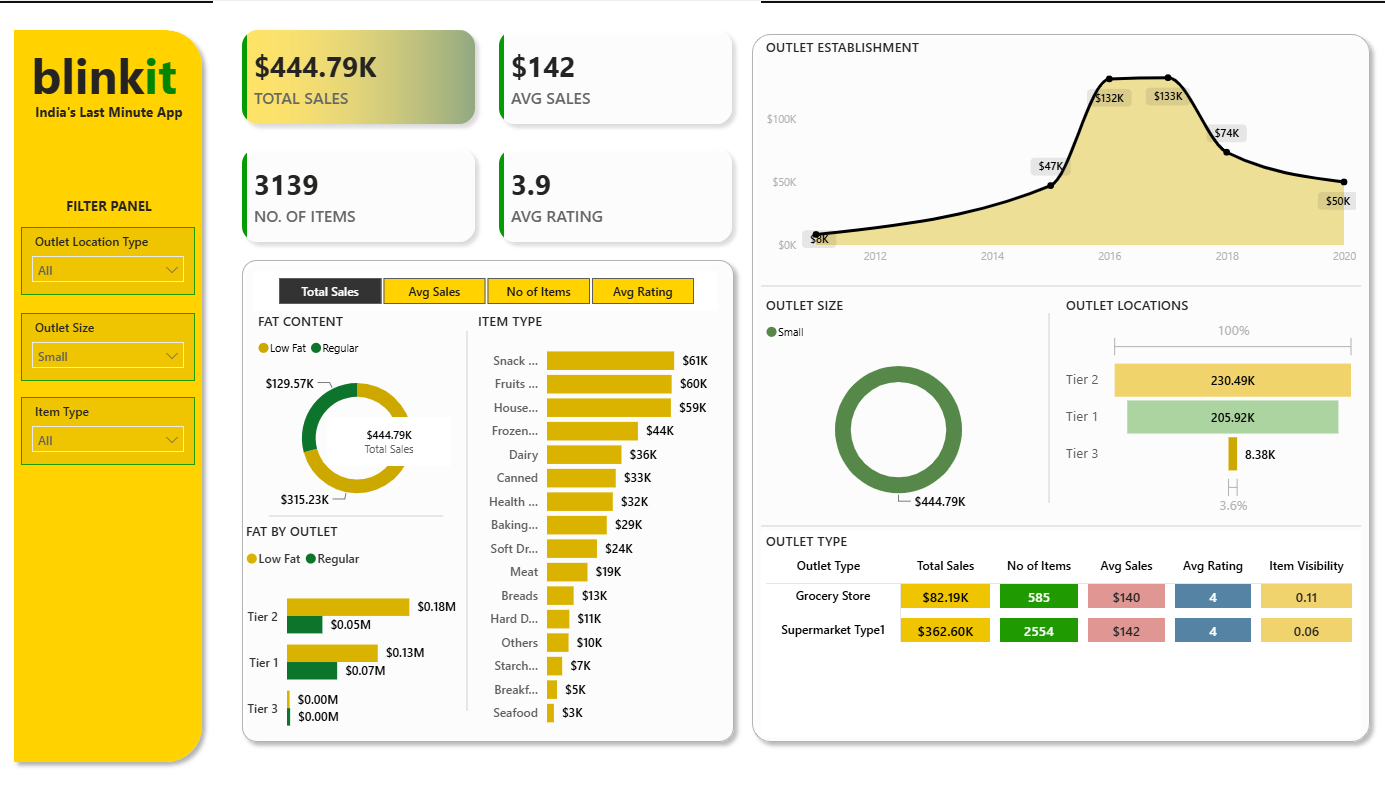

The dashboard page shown, as its layout file describes it:
{"tool":"powerbi","page":{"name":"Page 1","canvas":[1400,800],"ordinal":0},"visuals":[{"type":"shape","box":[10,20,206,750],"z":0},{"type":"textbox","box":[18,36,182,76],"z":1000},{"type":"textbox","box":[28,96,172,30],"z":2000},{"type":"cardVisual","fields":{"Data":["BlinkIT Grocery Data.Total Sales","BlinkIT Grocery Data.Avg Sales","BlinkIT Grocery Data.No of Items","BlinkIT Grocery Data.Avg Rating"]},"box":[218,0,548,270],"z":3000},{"type":"shape","box":[237.5,250,510,500],"z":4000},{"type":"donutChart","title":"FAT CONTENT","fields":{"Y":["BlinkIT Grocery Data.Total Sales"],"Category":["BlinkIT Grocery Data.Item Fat Content"]},"box":[258,310,208,210],"z":5000},{"type":"slicer","fields":{"Values":["Metrics.Metrics"]},"box":[258.3,270,465,40],"z":6000},{"type":"cardVisual","fields":{"Data":["BlinkIT Grocery Data.Total Sales"]},"box":[332,416,124,54],"z":7000},{"type":"clusteredBarChart","title":"FAT BY OUTLET","fields":{"Y":["BlinkIT Grocery Data.Total Sales"],"Category":["BlinkIT Grocery Data.Outlet Location Type"],"Series":["BlinkIT Grocery Data.Item Fat Content"]},"box":[246,520,220,230],"z":8000},{"type":"shape","box":[274,510,174,10],"z":9000},{"type":"shape","box":[466,330,12,380],"z":10000},{"type":"barChart","title":"ITEM TYPE","fields":{"Y":["BlinkIT Grocery Data.Total Sales"],"Category":["BlinkIT Grocery Data.Item Type"]},"box":[478,310,246,426],"z":11000},{"type":"shape","box":[748,24,636,726],"z":12000},{"type":"lineChart","title":"OUTLET ESTABLISHMENT","fields":{"Y":["BlinkIT Grocery Data.Total Sales"],"Category":["BlinkIT Grocery Data.Outlet Establishment Year"]},"box":[766,36,600,236],"z":13000},{"type":"shape","box":[766,280,600,10],"z":14000},{"type":"donutChart","title":"OUTLET SIZE","fields":{"Y":["BlinkIT Grocery Data.Total Sales"],"Category":["BlinkIT Grocery Data.Outlet Size"]},"box":[766,294,275,225],"z":15000},{"type":"shape","box":[1042,312,24,190],"z":16000},{"type":"funnel","title":"OUTLET LOCATIONS","fields":{"Y":["Sum(BlinkIT Grocery Data.Sales)"],"Category":["BlinkIT Grocery Data.Outlet Location Type"]},"box":[1066,294,300,226],"z":17000},{"type":"shape","box":[766,520,600,10],"z":18000},{"type":"pivotTable","title":"OUTLET TYPE","fields":{"Rows":["BlinkIT Grocery Data.Outlet Type"],"Values":["BlinkIT Grocery Data.Total Sales","BlinkIT Grocery Data.No of Items","BlinkIT Grocery Data.Avg Sales","BlinkIT Grocery Data.Avg Rating","Avg(BlinkIT Grocery Data.Item Visibility)"]},"box":[766,530,600,206],"z":19000},{"type":"slicer","fields":{"Values":["BlinkIT Grocery Data.Outlet Location Type"]},"box":[26,226,174,68],"z":20000},{"type":"slicer","fields":{"Values":["BlinkIT Grocery Data.Outlet Size"]},"box":[26,312,174,68],"z":21000},{"type":"slicer","fields":{"Values":["BlinkIT Grocery Data.Item Type"]},"box":[26,396,174,68],"z":22000},{"type":"textbox","box":[56,190,116,36],"z":22001}]}

Visuals, with their boxes in screenshot pixels (x1, y1, x2, y2), scaled from the page's 1400x800 canvas onto the 1385x794 screenshot:
shape: 10,20,214,764
textbox: 18,36,198,111
textbox: 28,95,198,125
cardVisual - BlinkIT Grocery Data.Total Sales x BlinkIT Grocery Data.Avg Sales: 216,0,758,268
shape: 235,248,739,744
"FAT CONTENT" donutChart: 255,308,461,516
slicer - Metrics.Metrics: 256,268,716,308
cardVisual - BlinkIT Grocery Data.Total Sales: 328,413,451,466
"FAT BY OUTLET" clusteredBarChart: 243,516,461,744
shape: 271,506,443,516
shape: 461,328,473,705
"ITEM TYPE" barChart: 473,308,716,730
shape: 740,24,1369,744
"OUTLET ESTABLISHMENT" lineChart: 758,36,1351,270
shape: 758,278,1351,288
"OUTLET SIZE" donutChart: 758,292,1030,515
shape: 1031,310,1055,498
"OUTLET LOCATIONS" funnel: 1055,292,1351,516
shape: 758,516,1351,526
"OUTLET TYPE" pivotTable: 758,526,1351,730
slicer - BlinkIT Grocery Data.Outlet Location Type: 26,224,198,292
slicer - BlinkIT Grocery Data.Outlet Size: 26,310,198,377
slicer - BlinkIT Grocery Data.Item Type: 26,393,198,461
textbox: 55,189,170,224
